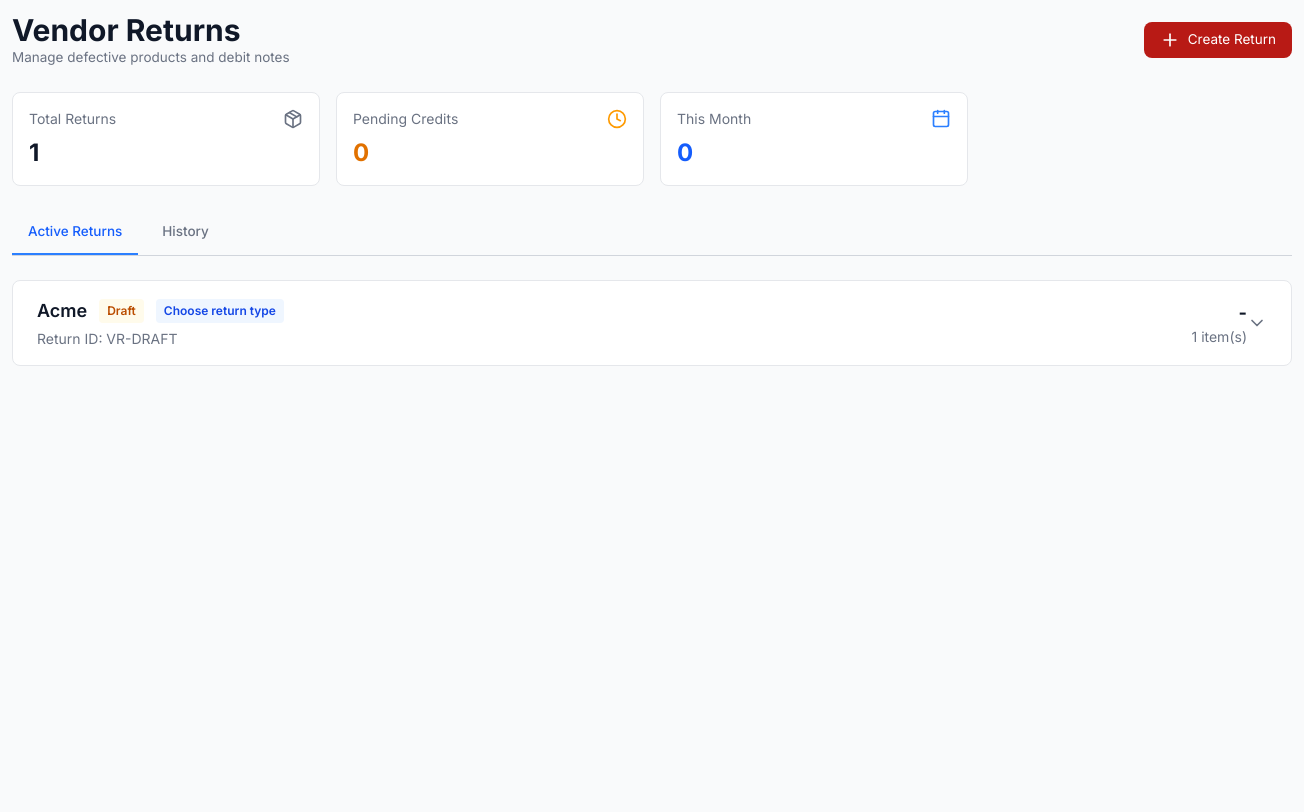
Scenario: receipt rejection draft handoff › requires a disposition, confirms the same draft, and never claims it was issued
This screenshot has width=1304, height=812.
Click the heading "Acme".
click(62, 311)  # box [37,297,87,325]
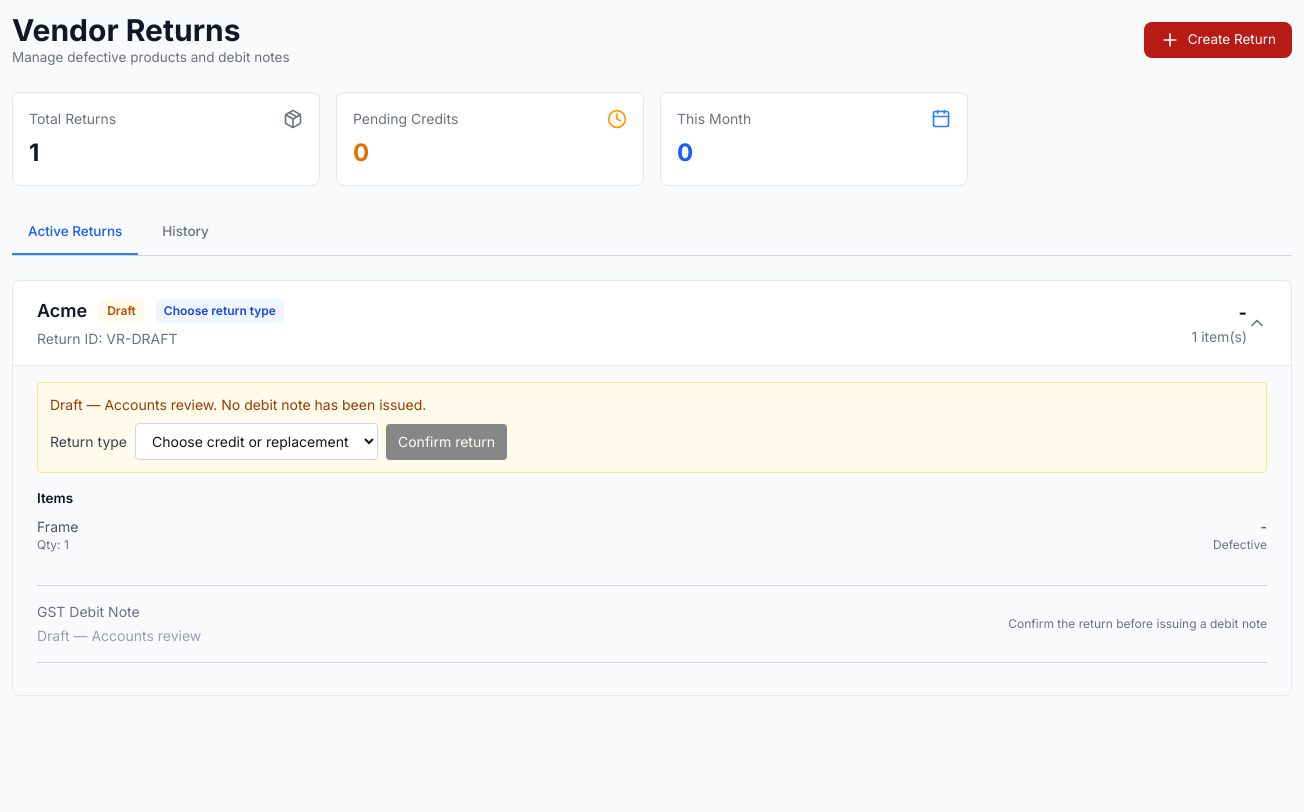
Now the button "Confirm return" is disabled, box [386,424,507,460]
Select "Replacement" in the dropdown labelled "Return type" at (256, 442), box [135,423,378,460]
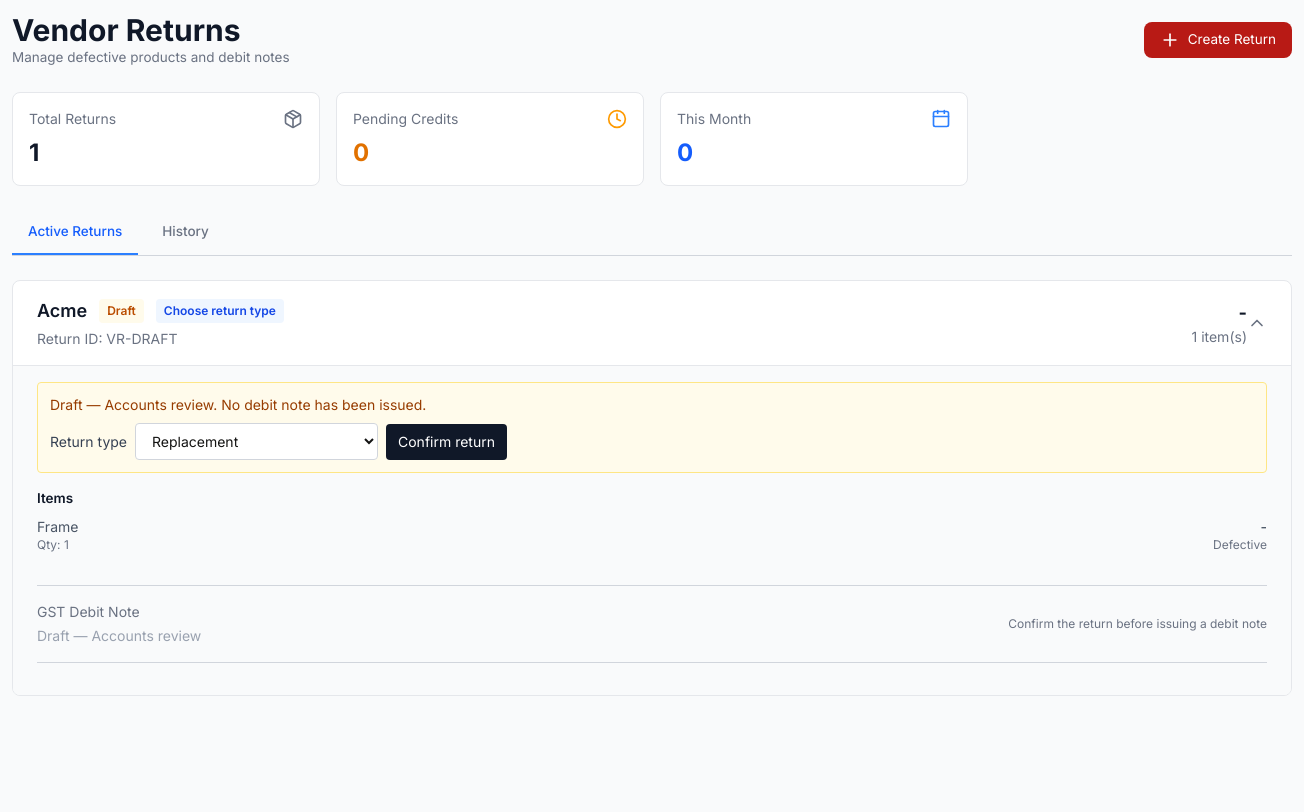
Click the button "Confirm return".
click(446, 442)  # box [386,424,507,460]
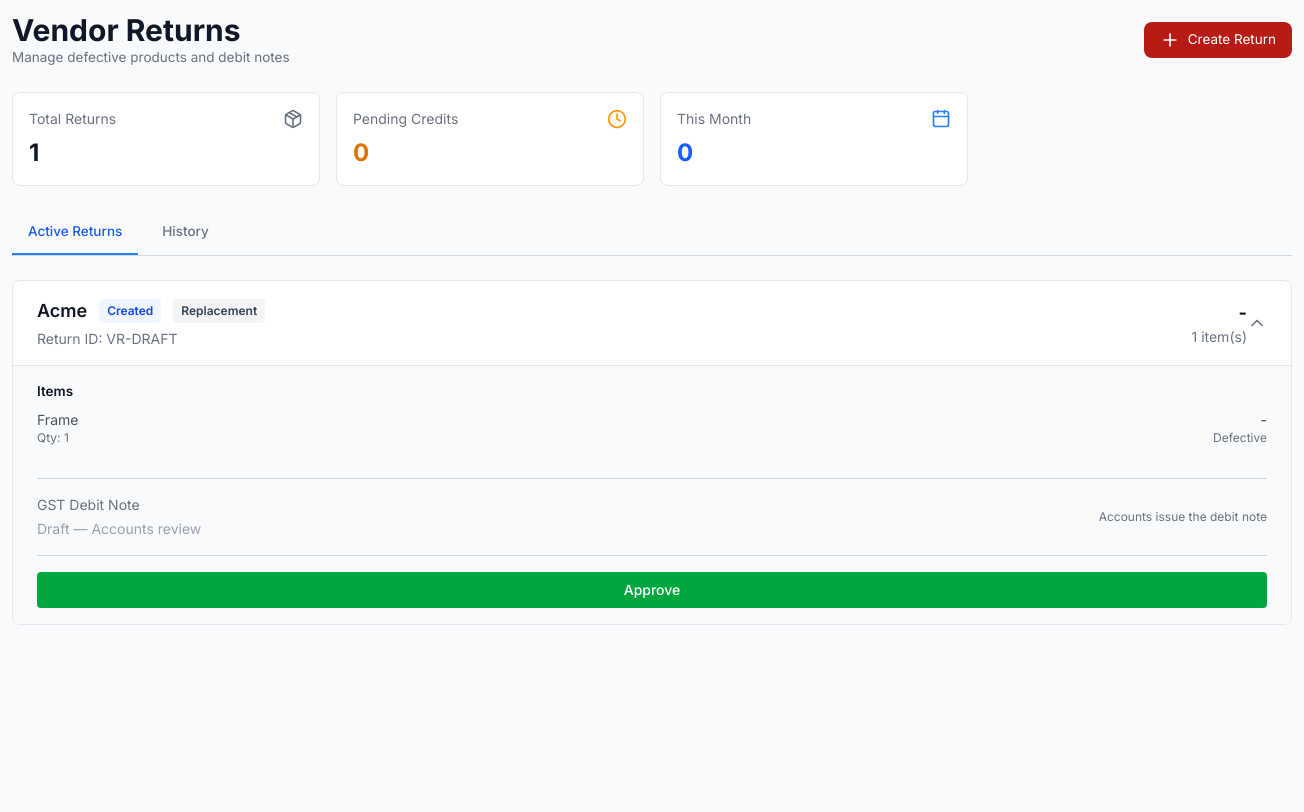
Now the button "Approve" is shown, box [37,572,1267,608]
